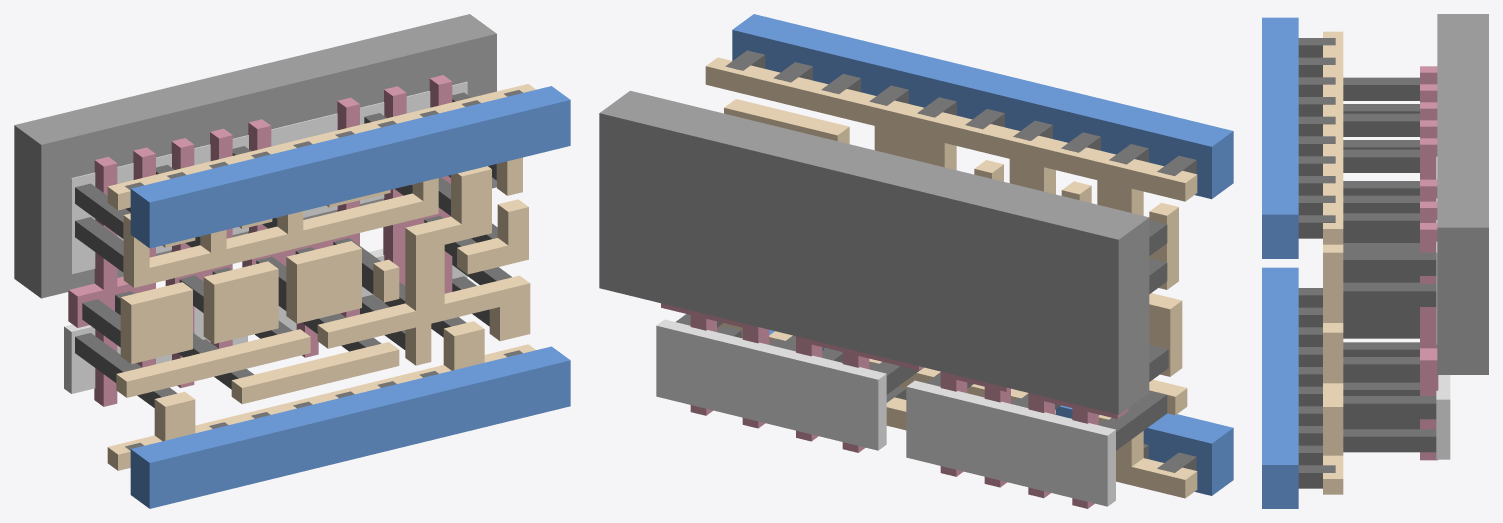
File: sky130_fd_sc_hd__a31oi_2.gds.gltf
3 renders of one model, left to right at view 1: azimuth 30°, elevation 25°; view 2: azimuth 150°, elevation 25°; view 3: azimuth 270°, elevation 25°, orthographic. The views are drawn at different scales.
Visible parts, largest first — view 1: sky130_fd_sc_hd__a31oi_2_li1, sky130_fd_sc_hd__a31oi_2_met1, sky130_fd_sc_hd__a31oi_2_nwell, sky130_fd_sc_hd__a31oi_2_licon, sky130_fd_sc_hd__a31oi_2_poly, sky130_fd_sc_hd__a31oi_2_diff, sky130_fd_sc_hd__a31oi_2_mcon; view 2: sky130_fd_sc_hd__a31oi_2_nwell, sky130_fd_sc_hd__a31oi_2_diff, sky130_fd_sc_hd__a31oi_2_li1, sky130_fd_sc_hd__a31oi_2_met1, sky130_fd_sc_hd__a31oi_2_mcon, sky130_fd_sc_hd__a31oi_2_poly, sky130_fd_sc_hd__a31oi_2_licon; view 3: sky130_fd_sc_hd__a31oi_2_licon, sky130_fd_sc_hd__a31oi_2_nwell, sky130_fd_sc_hd__a31oi_2_met1, sky130_fd_sc_hd__a31oi_2_mcon, sky130_fd_sc_hd__a31oi_2_li1, sky130_fd_sc_hd__a31oi_2_poly, sky130_fd_sc_hd__a31oi_2_diff.
Boxes of the visible parts, box(x1,y1,x2,y2) form: sky130_fd_sc_hd__a31oi_2_li1: box(107, 84, 535, 470); sky130_fd_sc_hd__a31oi_2_met1: box(130, 86, 570, 508); sky130_fd_sc_hd__a31oi_2_nwell: box(14, 14, 496, 298); sky130_fd_sc_hd__a31oi_2_licon: box(75, 92, 511, 407); sky130_fd_sc_hd__a31oi_2_poly: box(68, 75, 452, 406); sky130_fd_sc_hd__a31oi_2_diff: box(64, 81, 467, 393); sky130_fd_sc_hd__a31oi_2_mcon: box(125, 90, 522, 450); sky130_fd_sc_hd__a31oi_2_nwell: box(599, 90, 1149, 414); sky130_fd_sc_hd__a31oi_2_diff: box(656, 319, 1115, 506); sky130_fd_sc_hd__a31oi_2_li1: box(705, 57, 1197, 498); sky130_fd_sc_hd__a31oi_2_met1: box(732, 14, 1233, 495); sky130_fd_sc_hd__a31oi_2_mcon: box(725, 50, 1196, 472); sky130_fd_sc_hd__a31oi_2_poly: box(661, 303, 1128, 508); sky130_fd_sc_hd__a31oi_2_licon: box(676, 220, 1168, 450); sky130_fd_sc_hd__a31oi_2_licon: box(1343, 77, 1436, 452); sky130_fd_sc_hd__a31oi_2_nwell: box(1437, 14, 1488, 374); sky130_fd_sc_hd__a31oi_2_met1: box(1262, 17, 1298, 508); sky130_fd_sc_hd__a31oi_2_mcon: box(1298, 38, 1335, 488); sky130_fd_sc_hd__a31oi_2_li1: box(1323, 31, 1343, 494); sky130_fd_sc_hd__a31oi_2_poly: box(1420, 66, 1438, 460); sky130_fd_sc_hd__a31oi_2_diff: box(1436, 156, 1450, 459).
Bounding box in the file's own units: 4.98 × 3.2 × 2.24.
